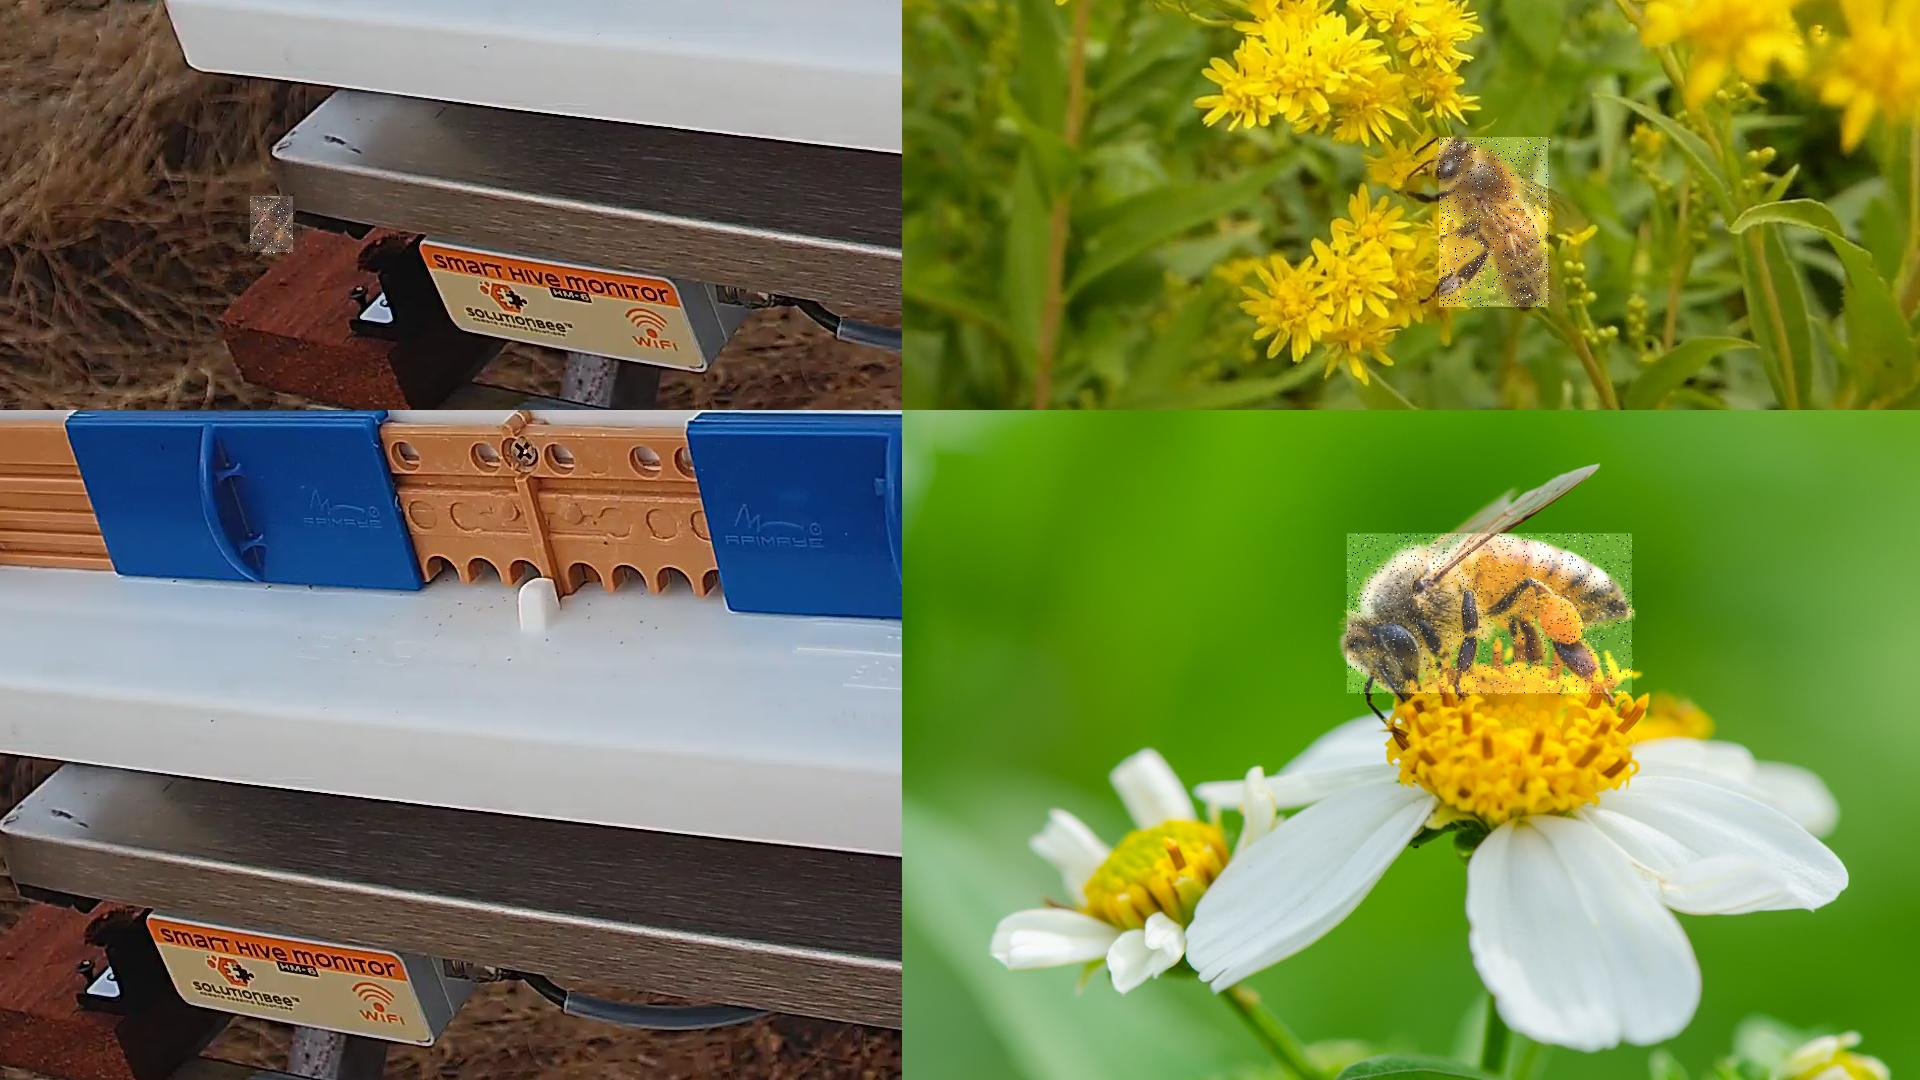bee: (1440, 137, 1552, 309)
pollenbee: (1348, 534, 1635, 696), (251, 196, 294, 256)
